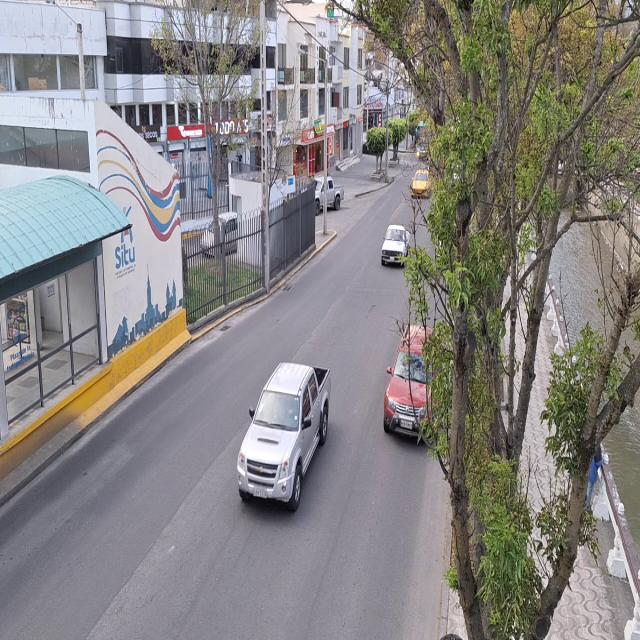CMT: (238, 362, 330, 512), (381, 224, 409, 270)
